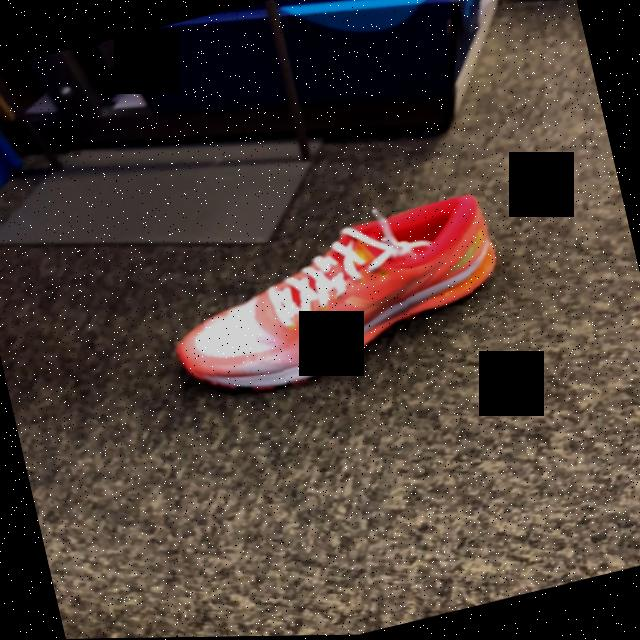shoe: (176, 196, 499, 395)
